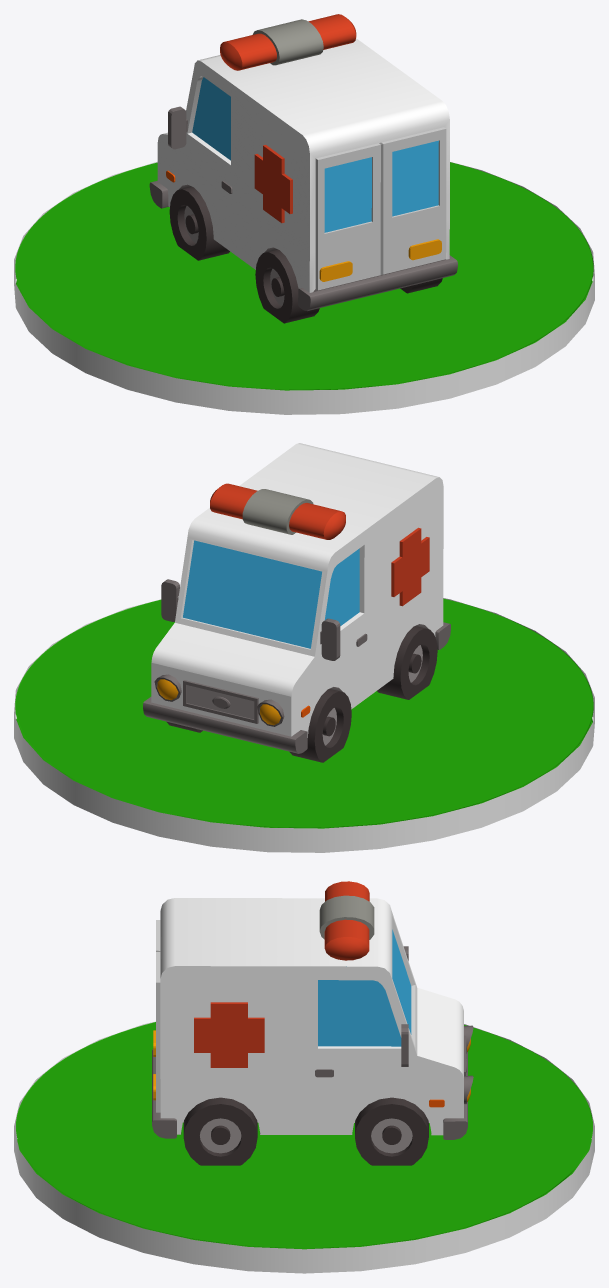
The model's file is ambulance.glb.
3 renders of one model, top to bottom at view 1: azimuth 30°, elevation 25°; view 2: azimuth 150°, elevation 25°; view 3: azimuth 270°, elevation 25°, orthographic.
Visible parts, largest first — view 1: Cylinder, Mesh-Ambulance.2_1, Cylinder.002; view 2: Cylinder, Mesh-Ambulance.2_1, Cylinder.002; view 3: Cylinder, Mesh-Ambulance.2_1, Cylinder.002, mirror, window.
Boxes of the visible parts, x1=… form: Cylinder: x1=15, y1=162, x2=593, y2=390; Mesh-Ambulance.2_1: x1=149, y1=14, x2=457, y2=323; Cylinder.002: x1=14, y1=161, x2=594, y2=414; Cylinder: x1=15, y1=598, x2=593, y2=828; Mesh-Ambulance.2_1: x1=143, y1=443, x2=450, y2=762; Cylinder.002: x1=14, y1=598, x2=594, y2=852; Cylinder: x1=16, y1=1022, x2=592, y2=1249; Mesh-Ambulance.2_1: x1=152, y1=881, x2=473, y2=1165; Cylinder.002: x1=14, y1=1021, x2=594, y2=1273; mirror: x1=318, y1=980, x2=401, y2=1046; window: x1=194, y1=1004, x2=264, y2=1067.
Bounding box in the file's own units: 76.27 × 35.75 × 76.27.
Materials: 3 (1 with a texture image).
